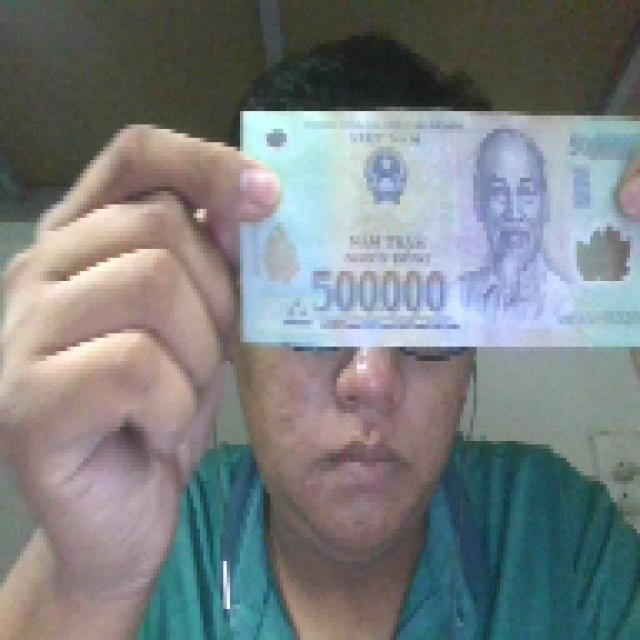500 000 VND: (233, 102, 637, 350)
